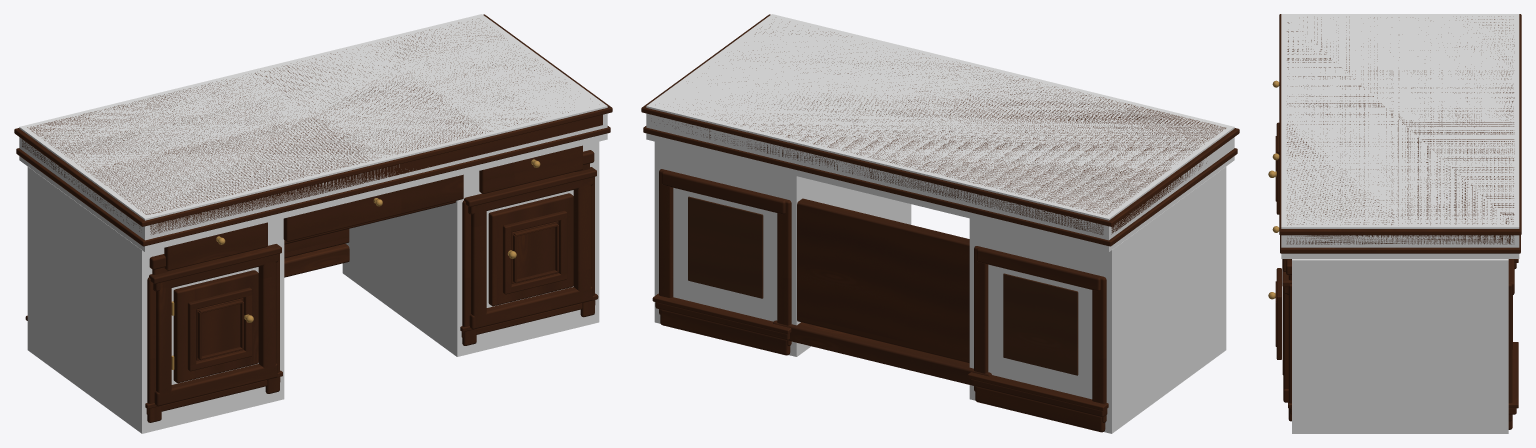
File: luxury.glb
3 views of the same model, side by side, from view 1: azimuth 30°, elevation 25°; view 2: azimuth 150°, elevation 25°; view 3: azimuth 270°, elevation 25° (orthographic). The views are drawn at different scales.
Visible parts, largest first — view 1: COL_Desk_HighEnd_Desktop, COL_Desk_HighEnd_LeftPedestal, BATCH_Desktop_Desk_HighEnd_Surface, BATCH_Body_Desk_HighEnd_Body, COL_Desk_HighEnd_RightPedestal, BATCH_CabinetDoor_Right_Desk_HighEnd_Body, BATCH_CabinetDoor_Left_Desk_HighEnd_Body, BATCH_Drawer_Center_Desk_HighEnd_Body, BATCH_Drawer_Right_Top_Desk_HighEnd_Body, BATCH_Drawer_Left_Top_Desk_HighEnd_Body, BATCH_ModestyPanel_Desk_HighEnd_Body; view 2: COL_Desk_HighEnd_Desktop, COL_Desk_HighEnd_LeftPedestal, BATCH_ModestyPanel_Desk_HighEnd_Body, BATCH_Desktop_Desk_HighEnd_Surface, BATCH_Body_Desk_HighEnd_Body, COL_Desk_HighEnd_RightPedestal, BATCH_Body_Desk_HighEnd_InteriorOak; view 3: COL_Desk_HighEnd_Desktop, COL_Desk_HighEnd_RightPedestal, BATCH_Desktop_Desk_HighEnd_Surface, BATCH_Body_Desk_HighEnd_Body, BATCH_CabinetDoor_Right_Desk_HighEnd_Body, BATCH_CabinetDoor_Left_Desk_HighEnd_Body.
Boxes of the visible parts, box(x1,y1,x2,y2) form: COL_Desk_HighEnd_Desktop: box(19, 14, 607, 252); COL_Desk_HighEnd_LeftPedestal: box(27, 167, 284, 433); BATCH_Desktop_Desk_HighEnd_Surface: box(14, 14, 612, 246); BATCH_Body_Desk_HighEnd_Body: box(25, 150, 598, 422); COL_Desk_HighEnd_RightPedestal: box(342, 141, 599, 356); BATCH_CabinetDoor_Right_Desk_HighEnd_Body: box(488, 193, 573, 306); BATCH_CabinetDoor_Left_Desk_HighEnd_Body: box(173, 270, 258, 383); BATCH_Drawer_Center_Desk_HighEnd_Body: box(283, 174, 463, 241); BATCH_Drawer_Right_Top_Desk_HighEnd_Body: box(479, 145, 582, 193); BATCH_Drawer_Left_Top_Desk_HighEnd_Body: box(164, 222, 267, 270); BATCH_ModestyPanel_Desk_HighEnd_Body: box(284, 229, 349, 277); COL_Desk_HighEnd_Desktop: box(646, 14, 1234, 252); COL_Desk_HighEnd_LeftPedestal: box(969, 167, 1226, 433); BATCH_ModestyPanel_Desk_HighEnd_Body: box(773, 198, 991, 384); BATCH_Desktop_Desk_HighEnd_Surface: box(641, 14, 1239, 246); BATCH_Body_Desk_HighEnd_Body: box(652, 169, 1108, 432); COL_Desk_HighEnd_RightPedestal: box(654, 141, 911, 356); BATCH_Body_Desk_HighEnd_InteriorOak: box(688, 196, 1078, 375); COL_Desk_HighEnd_Desktop: box(1281, 14, 1519, 258); COL_Desk_HighEnd_RightPedestal: box(1292, 259, 1508, 433); BATCH_Desktop_Desk_HighEnd_Surface: box(1279, 14, 1521, 253); BATCH_Body_Desk_HighEnd_Body: box(1282, 259, 1518, 429); BATCH_CabinetDoor_Right_Desk_HighEnd_Body: box(1275, 268, 1283, 374); BATCH_CabinetDoor_Left_Desk_HighEnd_Body: box(1275, 122, 1279, 214).
Bounding box in the file's own units: 1.77 × 0.79 × 0.8722.
Materials: 5 (3 with a texture image).
